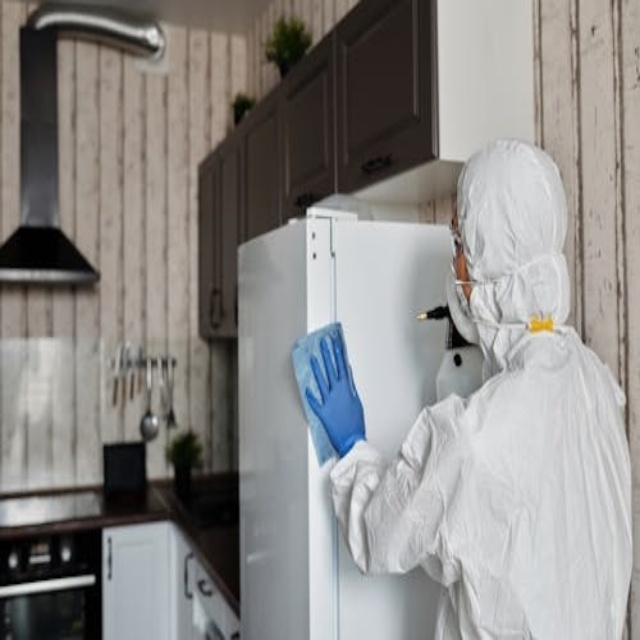Guantes: (292, 322, 366, 463)
Mascara: (445, 264, 479, 347)
